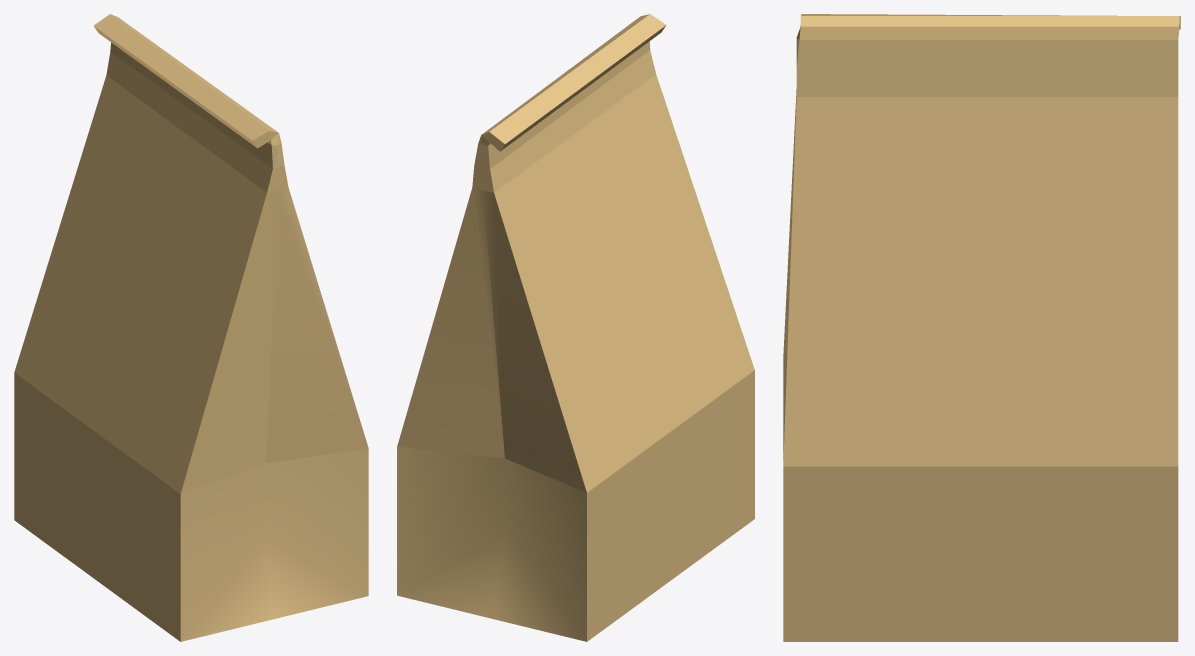
Rendered from PaperBag.fbx.
3 views of the same model, side by side, from view 1: azimuth 30°, elevation 25°; view 2: azimuth 150°, elevation 25°; view 3: azimuth 270°, elevation 25° (orthographic). The views are drawn at different scales.
Parts seen in each view (by area): view 1: Paper_Bag; view 2: Paper_Bag; view 3: Paper_Bag.
Boxes of the visible parts, x1,y1,x2,y2 form: Paper_Bag: [14, 14, 368, 641]; Paper_Bag: [397, 14, 754, 641]; Paper_Bag: [783, 14, 1180, 641].
Size of the model in its own units: 0.96 by 2.35 by 1.48.
